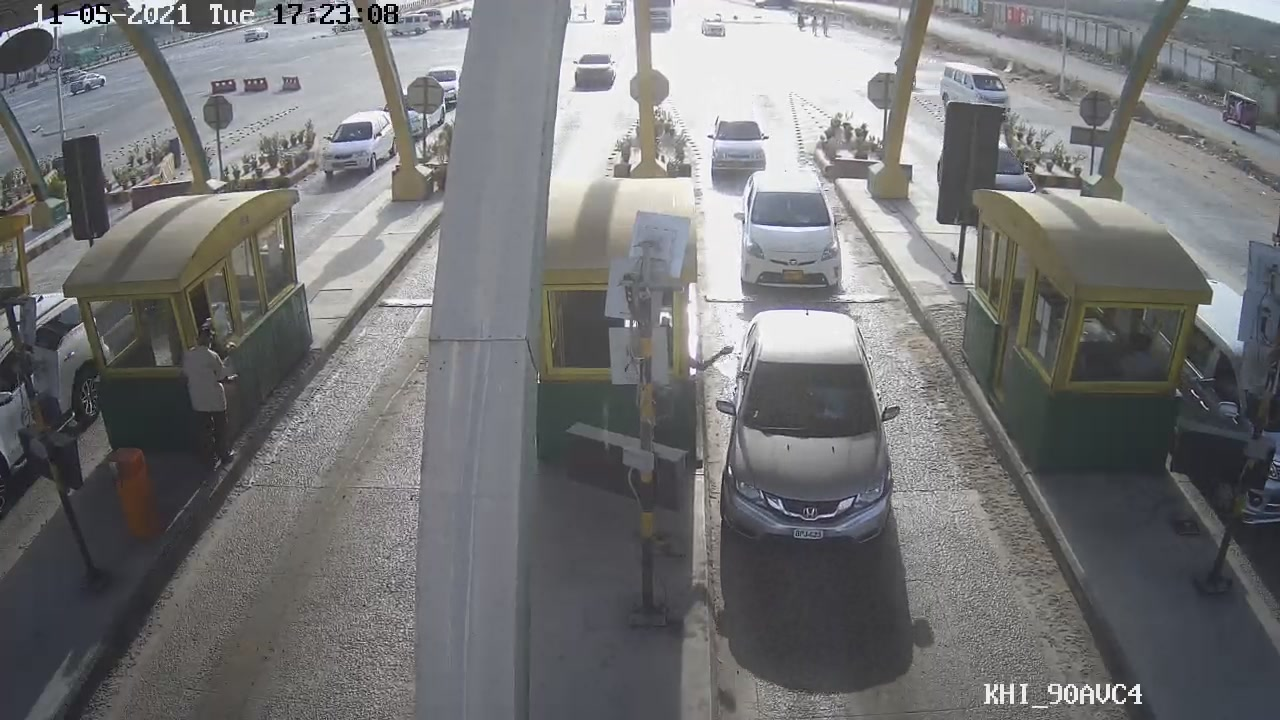F1: (718, 308, 902, 564), (722, 158, 861, 294)
